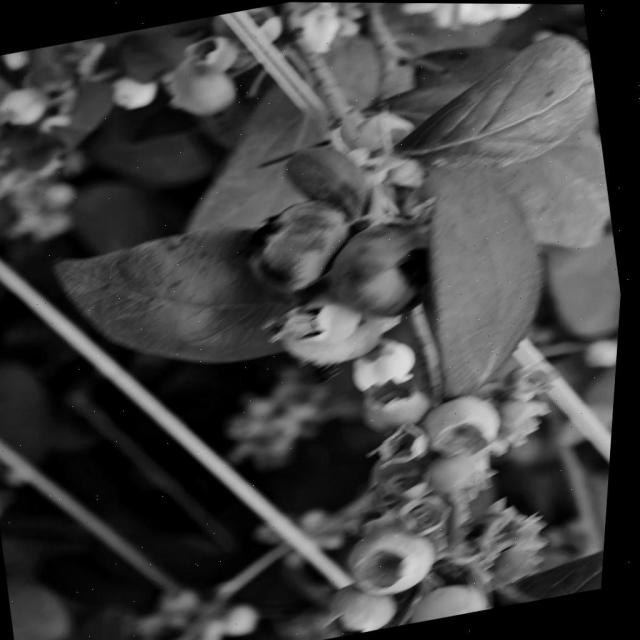RipeBlueBerry: (321, 214, 443, 324), (240, 193, 364, 299)
